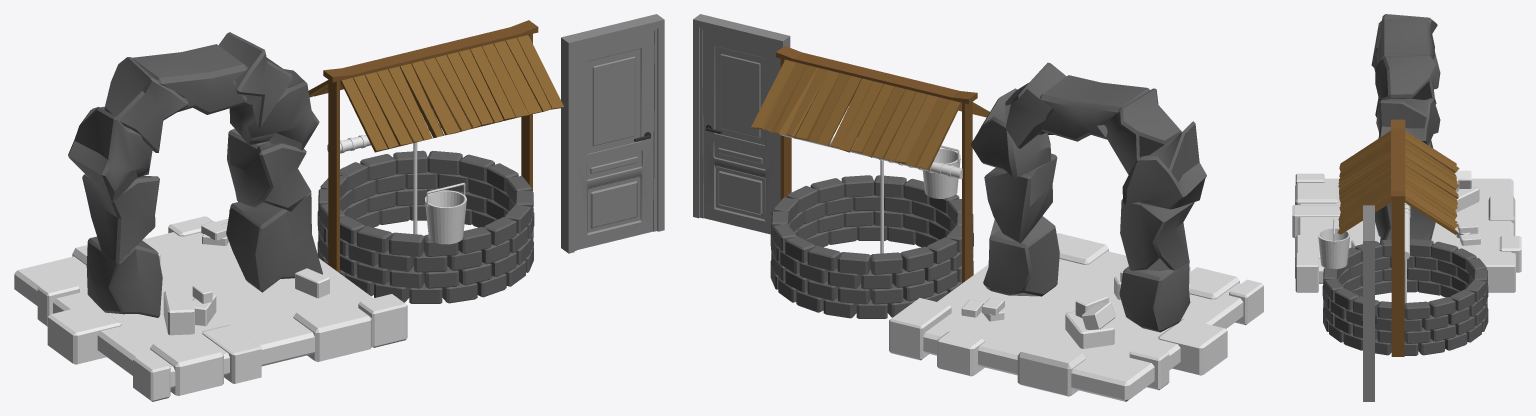
Rendered from practic1.fbx.
3 views of the same model, side by side, from view 1: azimuth 30°, elevation 25°; view 2: azimuth 150°, elevation 25°; view 3: azimuth 270°, elevation 25° (orthographic). The views are drawn at different scales.
Parts seen in each view (by area): view 1: Cube.003, Cube.002, Plane, Cube.004, Plane.001, Cube.008, Cube.005, Cube, Cube.012, Cube.001, Cylinder.001, Cube.017 (+2 smaller); view 2: Cube.003, Cube.002, Plane, Plane.001, Cube.004, Cube.008, Cube.005, Cube, Cube.012, Cube.001, Cylinder.001, Cube.021 (+3 smaller); view 3: Cube.002, Cube.003, Plane.001, Cube.008, Plane, Cube.005, Cube, Cube.001, Cylinder.001, Cube.021, Cylinder, Cube.022 (+2 smaller).
Part boxes in pixels (left/top/right/bottom): Cube.003: left=68, top=32, right=322, bottom=317; Cube.002: left=317, top=150, right=534, bottom=303; Plane: left=14, top=218, right=373, bottom=388; Cube.004: left=576, top=31, right=654, bottom=249; Plane.001: left=308, top=35, right=563, bottom=152; Cube.008: left=72, top=209, right=407, bottom=401; Cube.005: left=561, top=14, right=664, bottom=253; Cube: left=328, top=34, right=532, bottom=272; Cube.012: left=47, top=304, right=121, bottom=364; Cube.001: left=323, top=20, right=538, bottom=82; Cylinder.001: left=425, top=190, right=466, bottom=244; Cube.017: left=163, top=290, right=194, bottom=335; Cube.003: left=971, top=62, right=1206, bottom=332; Cube.002: left=770, top=175, right=973, bottom=318; Plane: left=923, top=251, right=1243, bottom=401; Plane.001: left=751, top=59, right=989, bottom=169; Cube.004: left=703, top=30, right=776, bottom=234; Cube.008: left=889, top=233, right=1263, bottom=396; Cube.005: left=693, top=14, right=790, bottom=218; Cube: left=780, top=58, right=972, bottom=283; Cube.012: left=1158, top=318, right=1227, bottom=375; Cube.001: left=776, top=46, right=977, bottom=104; Cylinder.001: left=922, top=148, right=960, bottom=198; Cube.021: left=1065, top=311, right=1114, bottom=348; Cube.002: left=1322, top=239, right=1488, bottom=355; Cube.003: left=1371, top=14, right=1440, bottom=243; Plane.001: left=1337, top=130, right=1459, bottom=234; Cube.008: left=1292, top=173, right=1521, bottom=292; Plane: left=1297, top=178, right=1513, bottom=283; Cube.005: left=1363, top=205, right=1374, bottom=401; Cube: left=1391, top=200, right=1404, bottom=356; Cube.001: left=1391, top=119, right=1405, bottom=200; Cylinder.001: left=1318, top=228, right=1350, bottom=268; Cube.021: left=1455, top=186, right=1479, bottom=212; Cylinder: left=1404, top=203, right=1410, bottom=259; Cube.022: left=1455, top=170, right=1471, bottom=188.
Size of the model in its own units: 1273 by 567 by 574.
